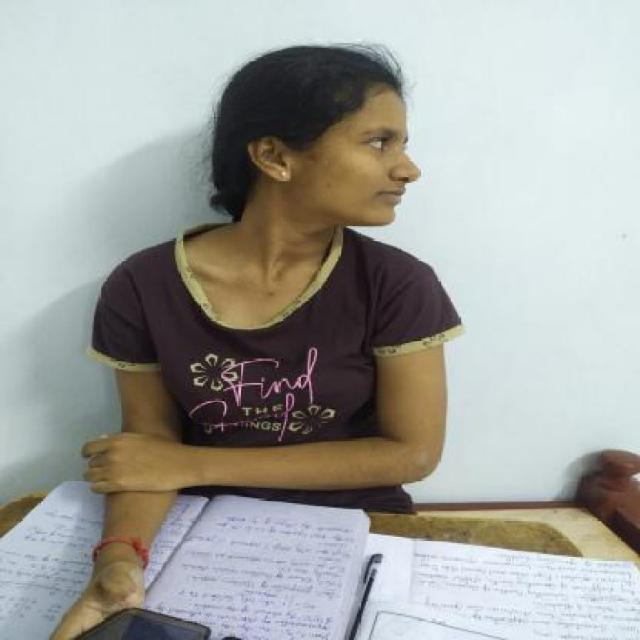cheating: (73, 27, 489, 494)
